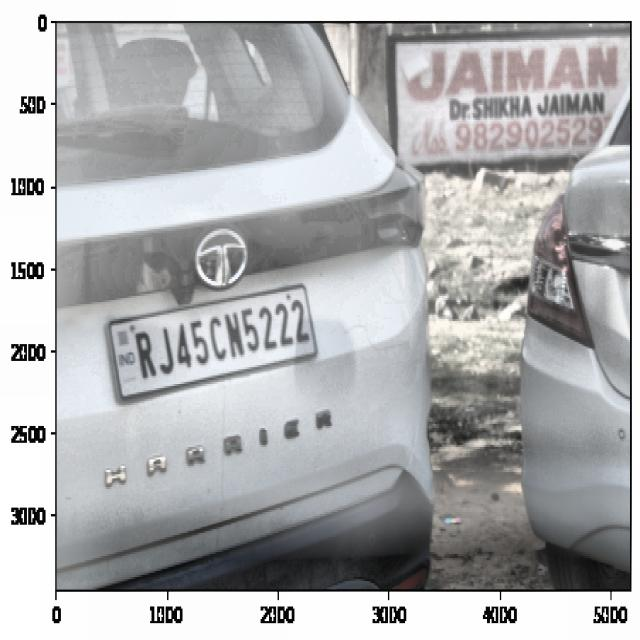license_plate: (120, 294, 322, 384)
